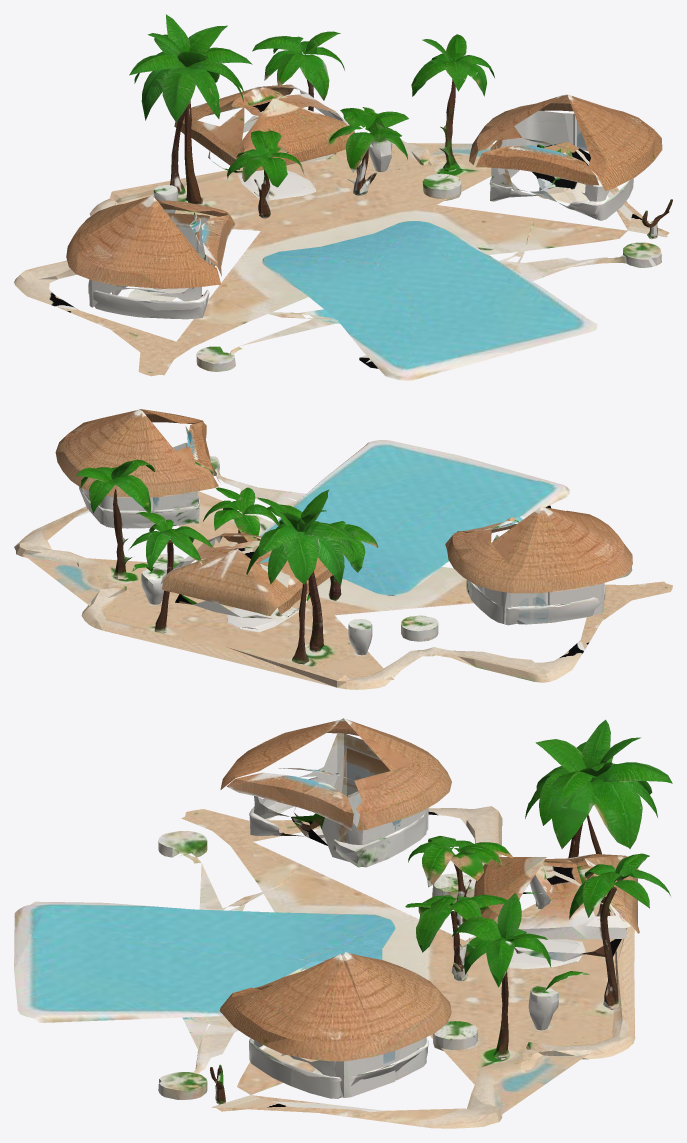
File: lm_resort.glb
3 views of the same model, one above another, from view 1: azimuth 30°, elevation 25°; view 2: azimuth 150°, elevation 25°; view 3: azimuth 270°, elevation 25° (orthographic). The views are drawn at different scales.
Parts seen in each view (by area): view 1: output_unwrapped; view 2: output_unwrapped; view 3: output_unwrapped.
Boxes of the visible parts, x1,y1,x2,y2 form: output_unwrapped: (14, 14, 672, 380); output_unwrapped: (14, 409, 672, 689); output_unwrapped: (14, 718, 672, 1128).
Bounding box in the file's own units: 0.9531 × 0.2651 × 0.8085.
1 material, 1 textured.
